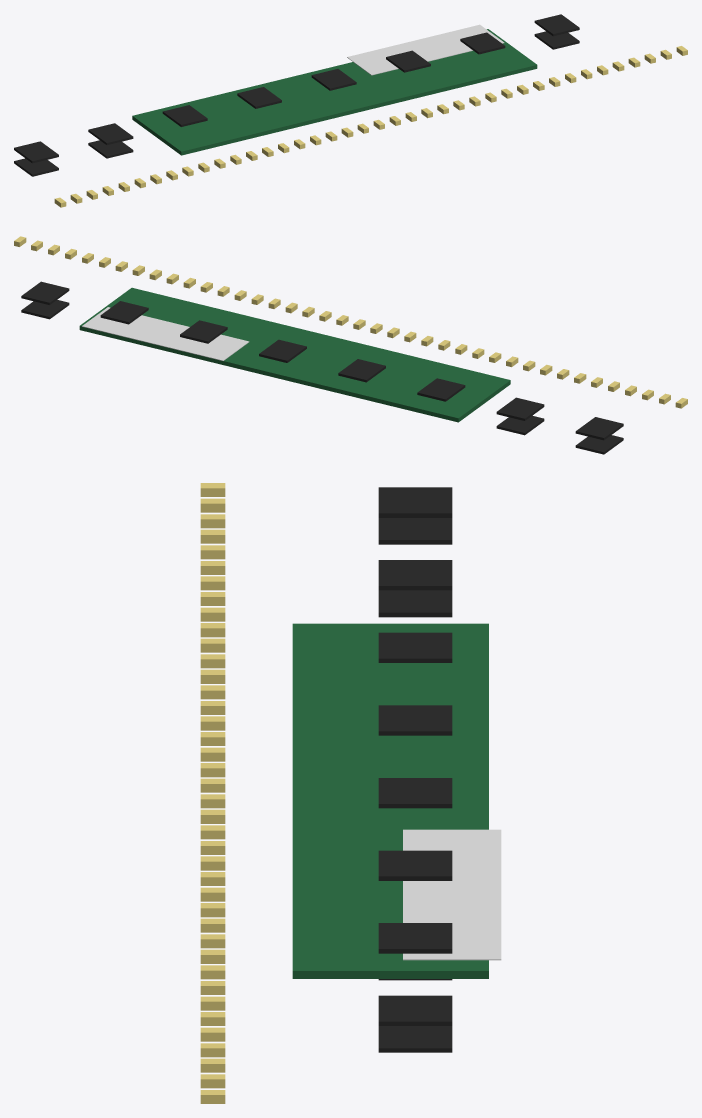
The model's file is prop_ram_stick.glb.
3 views of the same model, one above another, from view 1: azimuth 30°, elevation 25°; view 2: azimuth 150°, elevation 25°; view 3: azimuth 270°, elevation 25° (orthographic). The views are drawn at different scales.
Visible parts, largest first — view 1: prop_ram_stick; view 2: prop_ram_stick; view 3: prop_ram_stick.
Part boxes in pixels (<box>): prop_ram_stick: <box>14,14,687,207</box>; prop_ram_stick: <box>14,236,687,454</box>; prop_ram_stick: <box>200,483,501,1103</box>.
Size of the model in its own units: 0.118 by 0.0028 by 0.0245.
